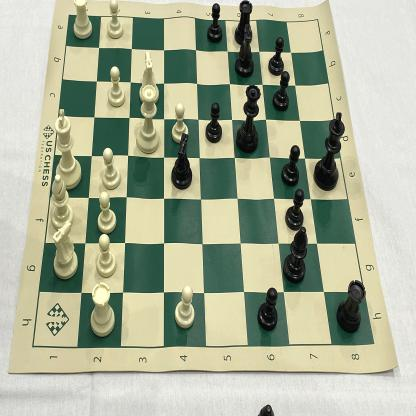black-bishop: (280, 226, 310, 284)
black-king: (312, 107, 346, 193)
black-knight: (170, 132, 194, 194), (233, 22, 256, 80)
black-pawn: (254, 284, 278, 334), (280, 142, 303, 188), (284, 186, 306, 233), (271, 68, 292, 112), (204, 0, 224, 46), (205, 100, 225, 144), (267, 33, 286, 78)
black-queen: (236, 81, 262, 157)
black-rook: (332, 278, 368, 335), (234, 0, 254, 47)
white-bishop: (48, 172, 74, 230)
white-king: (50, 108, 82, 190)
white-knight: (47, 220, 79, 281), (138, 48, 160, 103)
white-pawn: (174, 283, 198, 333), (97, 146, 123, 190), (94, 233, 118, 279), (94, 190, 118, 234), (169, 100, 190, 145), (105, 0, 127, 42), (106, 64, 127, 108)
white-queen: (134, 83, 162, 156)
white-rook: (88, 280, 116, 336), (68, 0, 95, 42)
